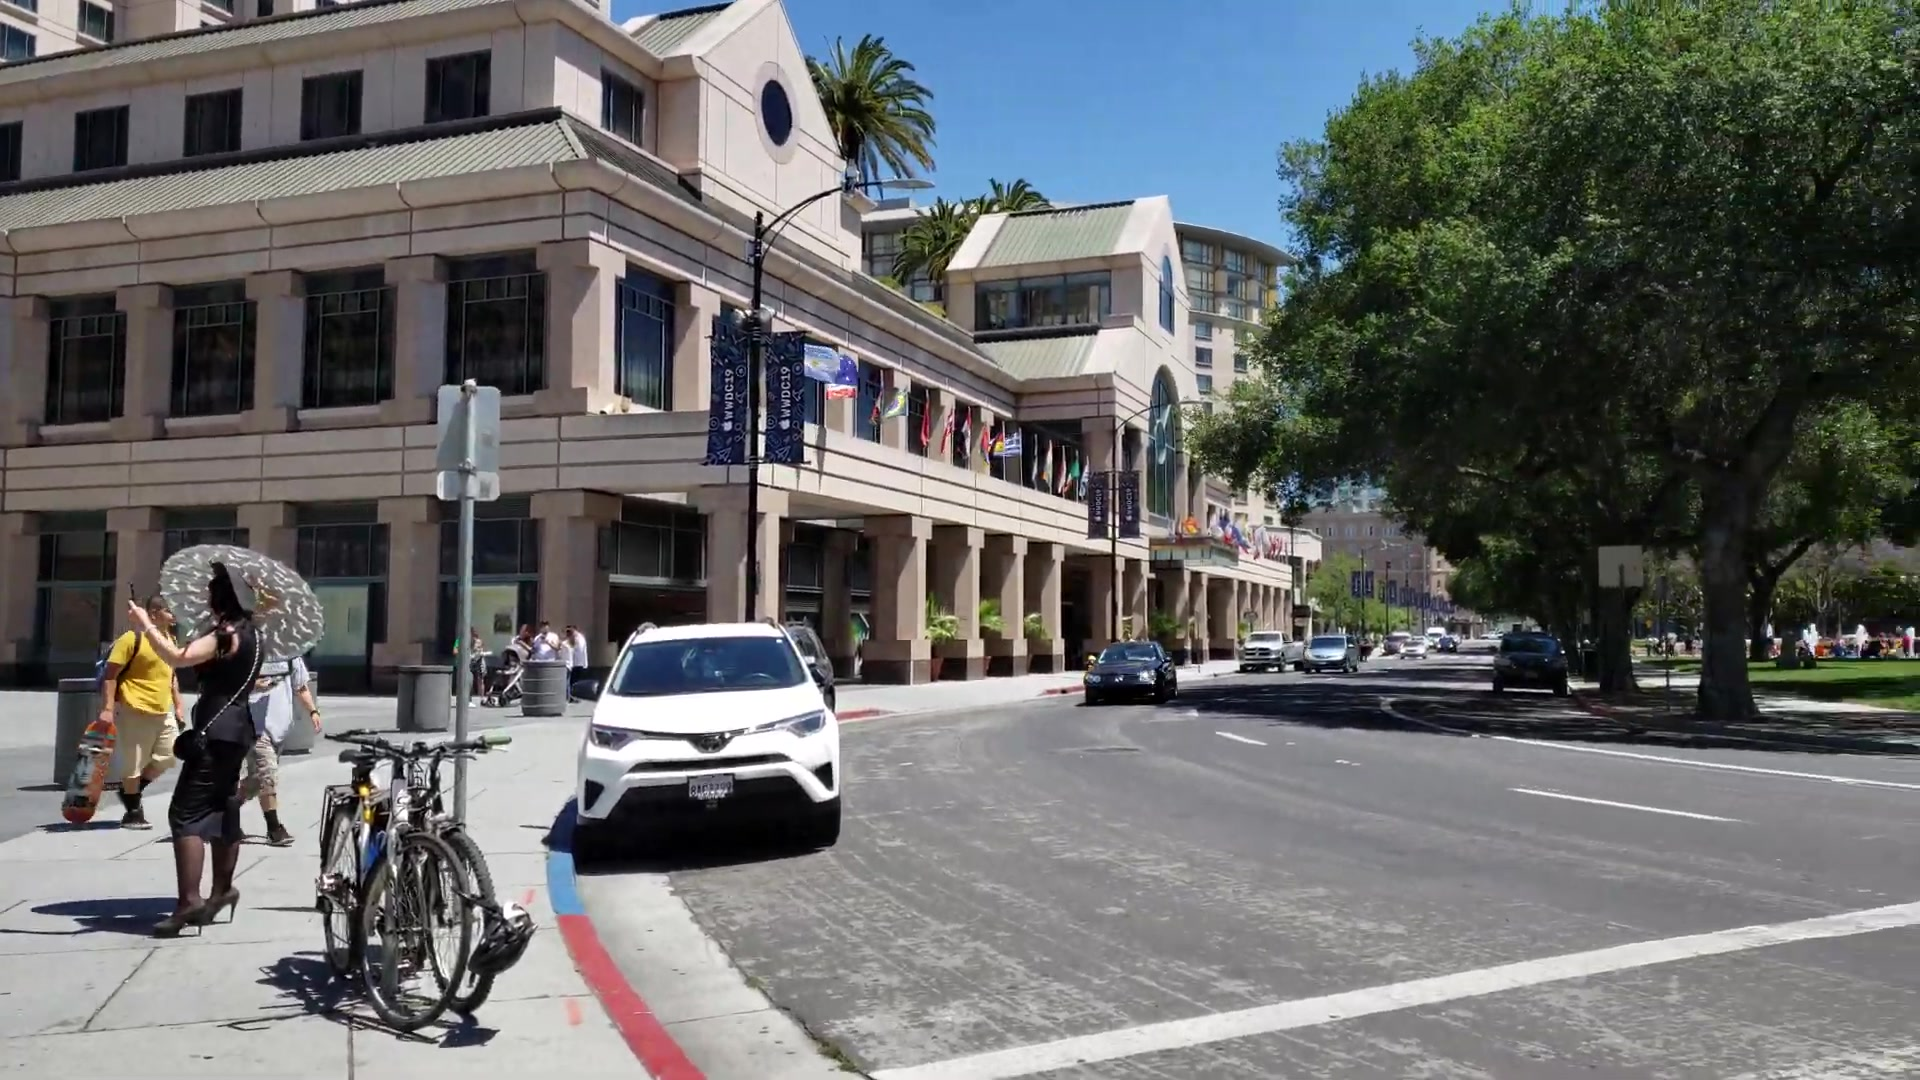vehicle_toward: (576, 618, 847, 844), (1081, 641, 1179, 707), (1240, 636, 1307, 671), (1305, 636, 1360, 675)
